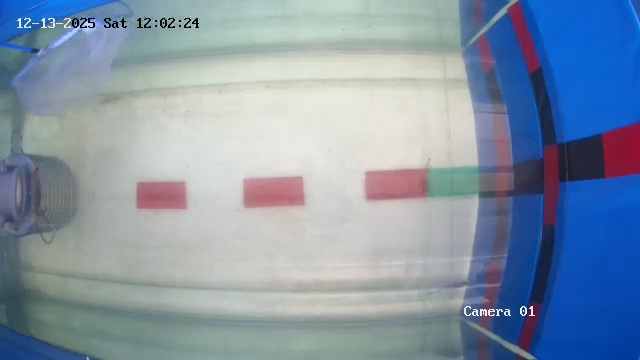fish: (432, 268, 479, 296)
